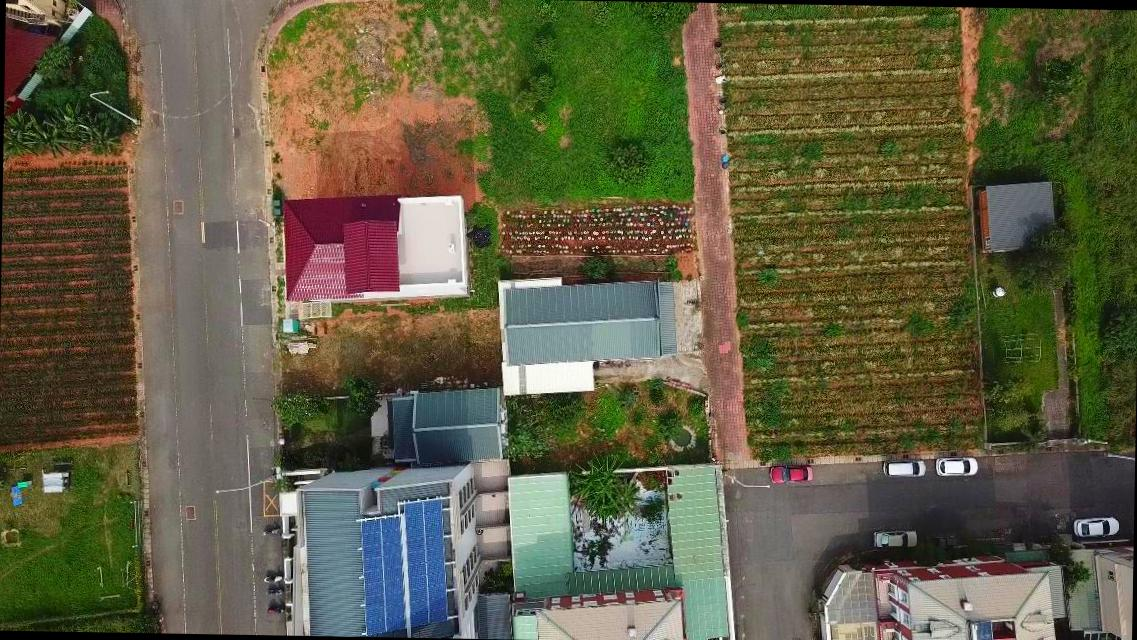vehicle: (872, 528, 920, 550), (1074, 514, 1118, 538), (768, 464, 814, 486), (936, 456, 978, 478), (882, 458, 926, 478)
